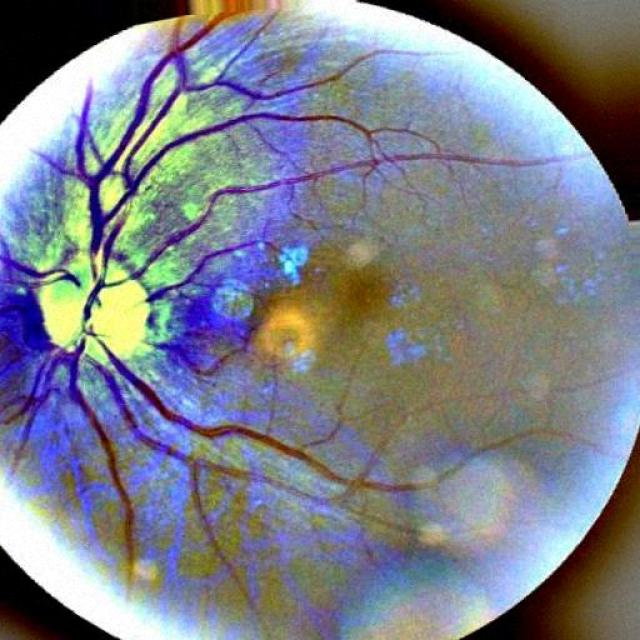Macula: (263, 314, 308, 369)
Nerves: (20, 12, 412, 574), (144, 239, 271, 304), (148, 324, 222, 375), (1, 252, 81, 290)
Optic Disk: (38, 254, 145, 359)
